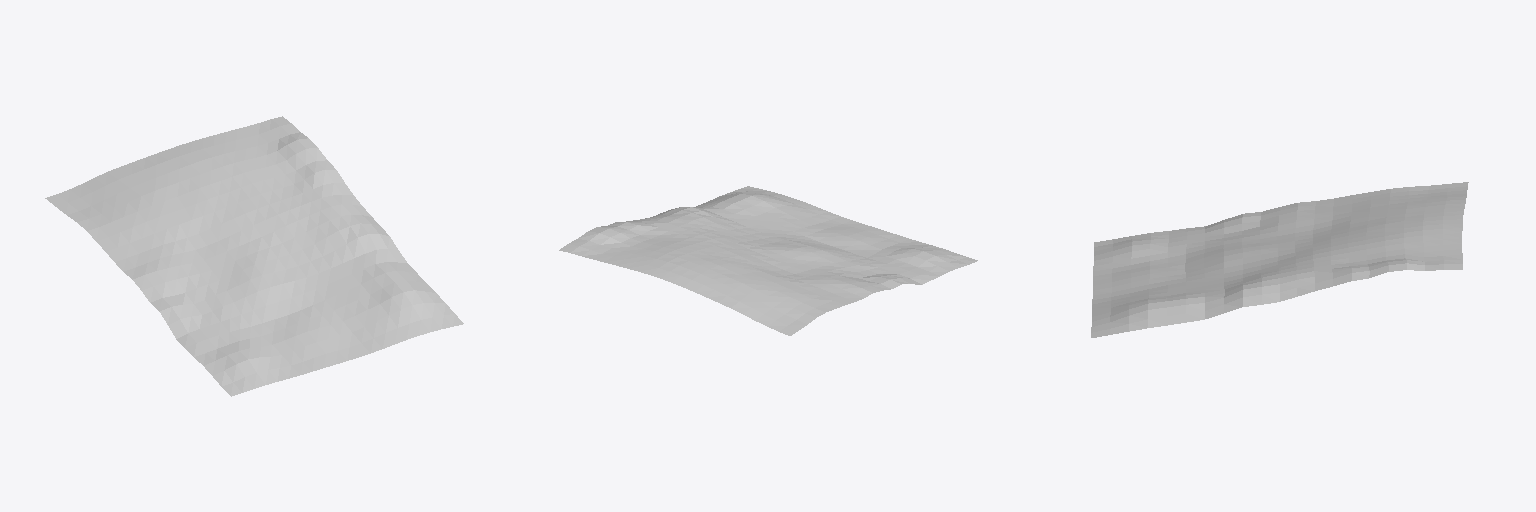
The model's file is EnvTerrainV3.obj.
The picture shows the model from 3 angles: view 1: azimuth 30°, elevation 25°; view 2: azimuth 150°, elevation 25°; view 3: azimuth 270°, elevation 25°; orthographic projection.
Parts seen in each view (by area): view 1: pPlane1; view 2: pPlane1; view 3: pPlane1.
Boxes of the visible parts, x1=… form: pPlane1: x1=45, y1=116, x2=463, y2=396; pPlane1: x1=559, y1=186, x2=977, y2=335; pPlane1: x1=1091, y1=182, x2=1468, y2=337.
Bounding box in the file's own units: 71.23 × 25.34 × 98.59.